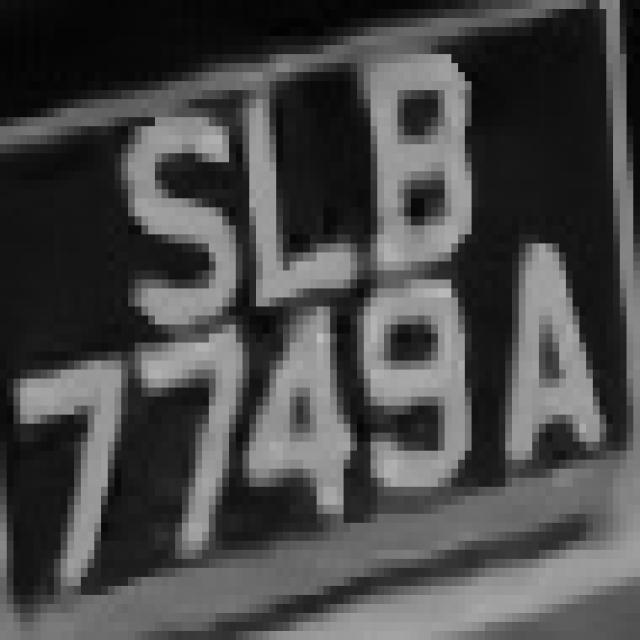4: (236, 270, 364, 523)
7: (128, 297, 256, 595), (7, 324, 141, 595)
9: (351, 252, 478, 532)
A: (478, 216, 606, 478)
B: (344, 45, 478, 289)
L: (229, 54, 357, 343)
S: (101, 72, 249, 325)
